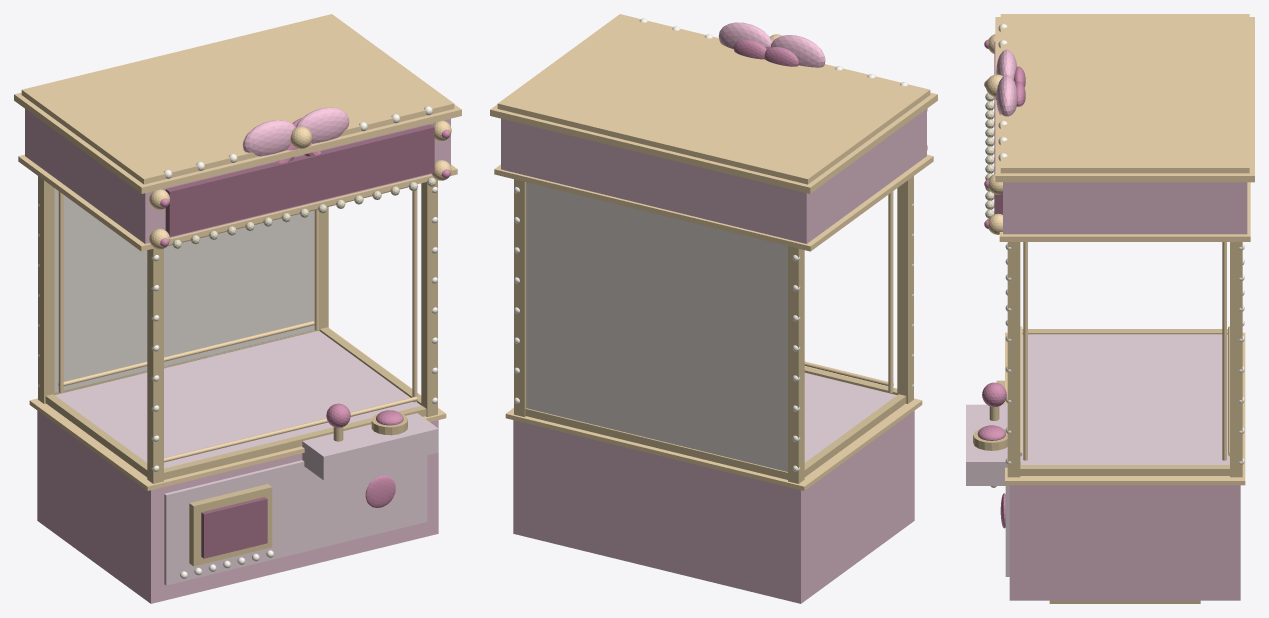
Rendered from claw_machine_cabinet.glb.
3 renders of one model, left to right at view 1: azimuth 30°, elevation 25°; view 2: azimuth 150°, elevation 25°; view 3: azimuth 270°, elevation 25°, orthographic.
Parts seen in each view (by area): view 1: ornate_cornice_5.42, rear_panel, plush_floor, base, base_front_inset, marquee_front, marquee, controls_console, ornate_cornice_5.35, pillar_-1.81_1.25, pillar_1.81_1.25, pillar_-1.81_-1.25 (+17 smaller); view 2: rear_panel, base, ornate_cornice_5.42, marquee, ornate_cornice_5.35, plush_floor, ornate_cornice_1.51, pillar_-1.81_-1.25, pillar_-1.81_1.25, ornate_cornice_4.59, pillar_1.81_-1.25, window_trim_-1.25_1.59 (+5 smaller); view 3: ornate_cornice_5.42, base, plush_floor, marquee, ornate_cornice_5.35, pillar_1.81_1.25, ornate_cornice_1.51, pillar_1.81_-1.25, controls_console, side_trim_1.81_1.59, ornate_cornice_4.59, side_trim_-1.81_1.59 (+9 smaller).
Part boxes in pixels (x1=…): ornate_cornice_5.42: x1=21, y1=14, x2=454, y2=184; rear_panel: x1=54, y1=188, x2=316, y2=394; plush_floor: x1=55, y1=331, x2=421, y2=468; base: x1=37, y1=411, x2=438, y2=603; base_front_inset: x1=164, y1=455, x2=427, y2=585; marquee_front: x1=165, y1=124, x2=434, y2=236; marquee: x1=25, y1=109, x2=450, y2=243; controls_console: x1=302, y1=413, x2=438, y2=480; ornate_cornice_5.35: x1=14, y1=92, x2=461, y2=193; pillar_-1.81_1.25: x1=147, y1=248, x2=163, y2=483; pillar_1.81_1.25: x1=421, y1=179, x2=437, y2=416; pillar_-1.81_-1.25: x1=38, y1=176, x2=54, y2=403; rear_panel: x1=526, y1=182, x2=787, y2=471; base: x1=513, y1=411, x2=914, y2=603; ornate_cornice_5.42: x1=497, y1=14, x2=930, y2=184; marquee: x1=501, y1=109, x2=926, y2=243; ornate_cornice_5.35: x1=490, y1=92, x2=937, y2=193; plush_floor: x1=804, y1=372, x2=896, y2=462; ornate_cornice_1.51: x1=505, y1=398, x2=922, y2=490; pillar_-1.81_-1.25: x1=788, y1=246, x2=804, y2=483; pillar_-1.81_1.25: x1=897, y1=176, x2=913, y2=403; ornate_cornice_4.59: x1=494, y1=154, x2=933, y2=251; pillar_1.81_-1.25: x1=514, y1=179, x2=526, y2=416; window_trim_-1.25_1.59: x1=525, y1=408, x2=787, y2=479; ornate_cornice_5.42: x1=1000, y1=14, x2=1249, y2=173; base: x1=1009, y1=485, x2=1240, y2=600; plush_floor: x1=1020, y1=334, x2=1229, y2=464; marquee: x1=1003, y1=182, x2=1247, y2=234; ornate_cornice_5.35: x1=995, y1=17, x2=1254, y2=182; pillar_1.81_1.25: x1=1007, y1=242, x2=1020, y2=477; ornate_cornice_1.51: x1=1005, y1=332, x2=1245, y2=485; pillar_1.81_-1.25: x1=1230, y1=242, x2=1242, y2=477; controls_console: x1=966, y1=404, x2=1020, y2=485; side_trim_1.81_1.59: x1=1020, y1=465, x2=1229, y2=475; ornate_cornice_4.59: x1=999, y1=182, x2=1250, y2=241; side_trim_-1.81_1.59: x1=1022, y1=329, x2=1227, y2=334.
Size of the model in its own units: 4.23 by 5.9 by 3.25.
